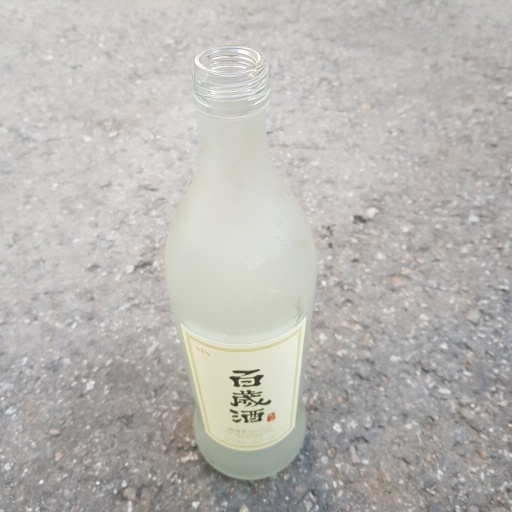Glass_0: (163, 43, 320, 483)
